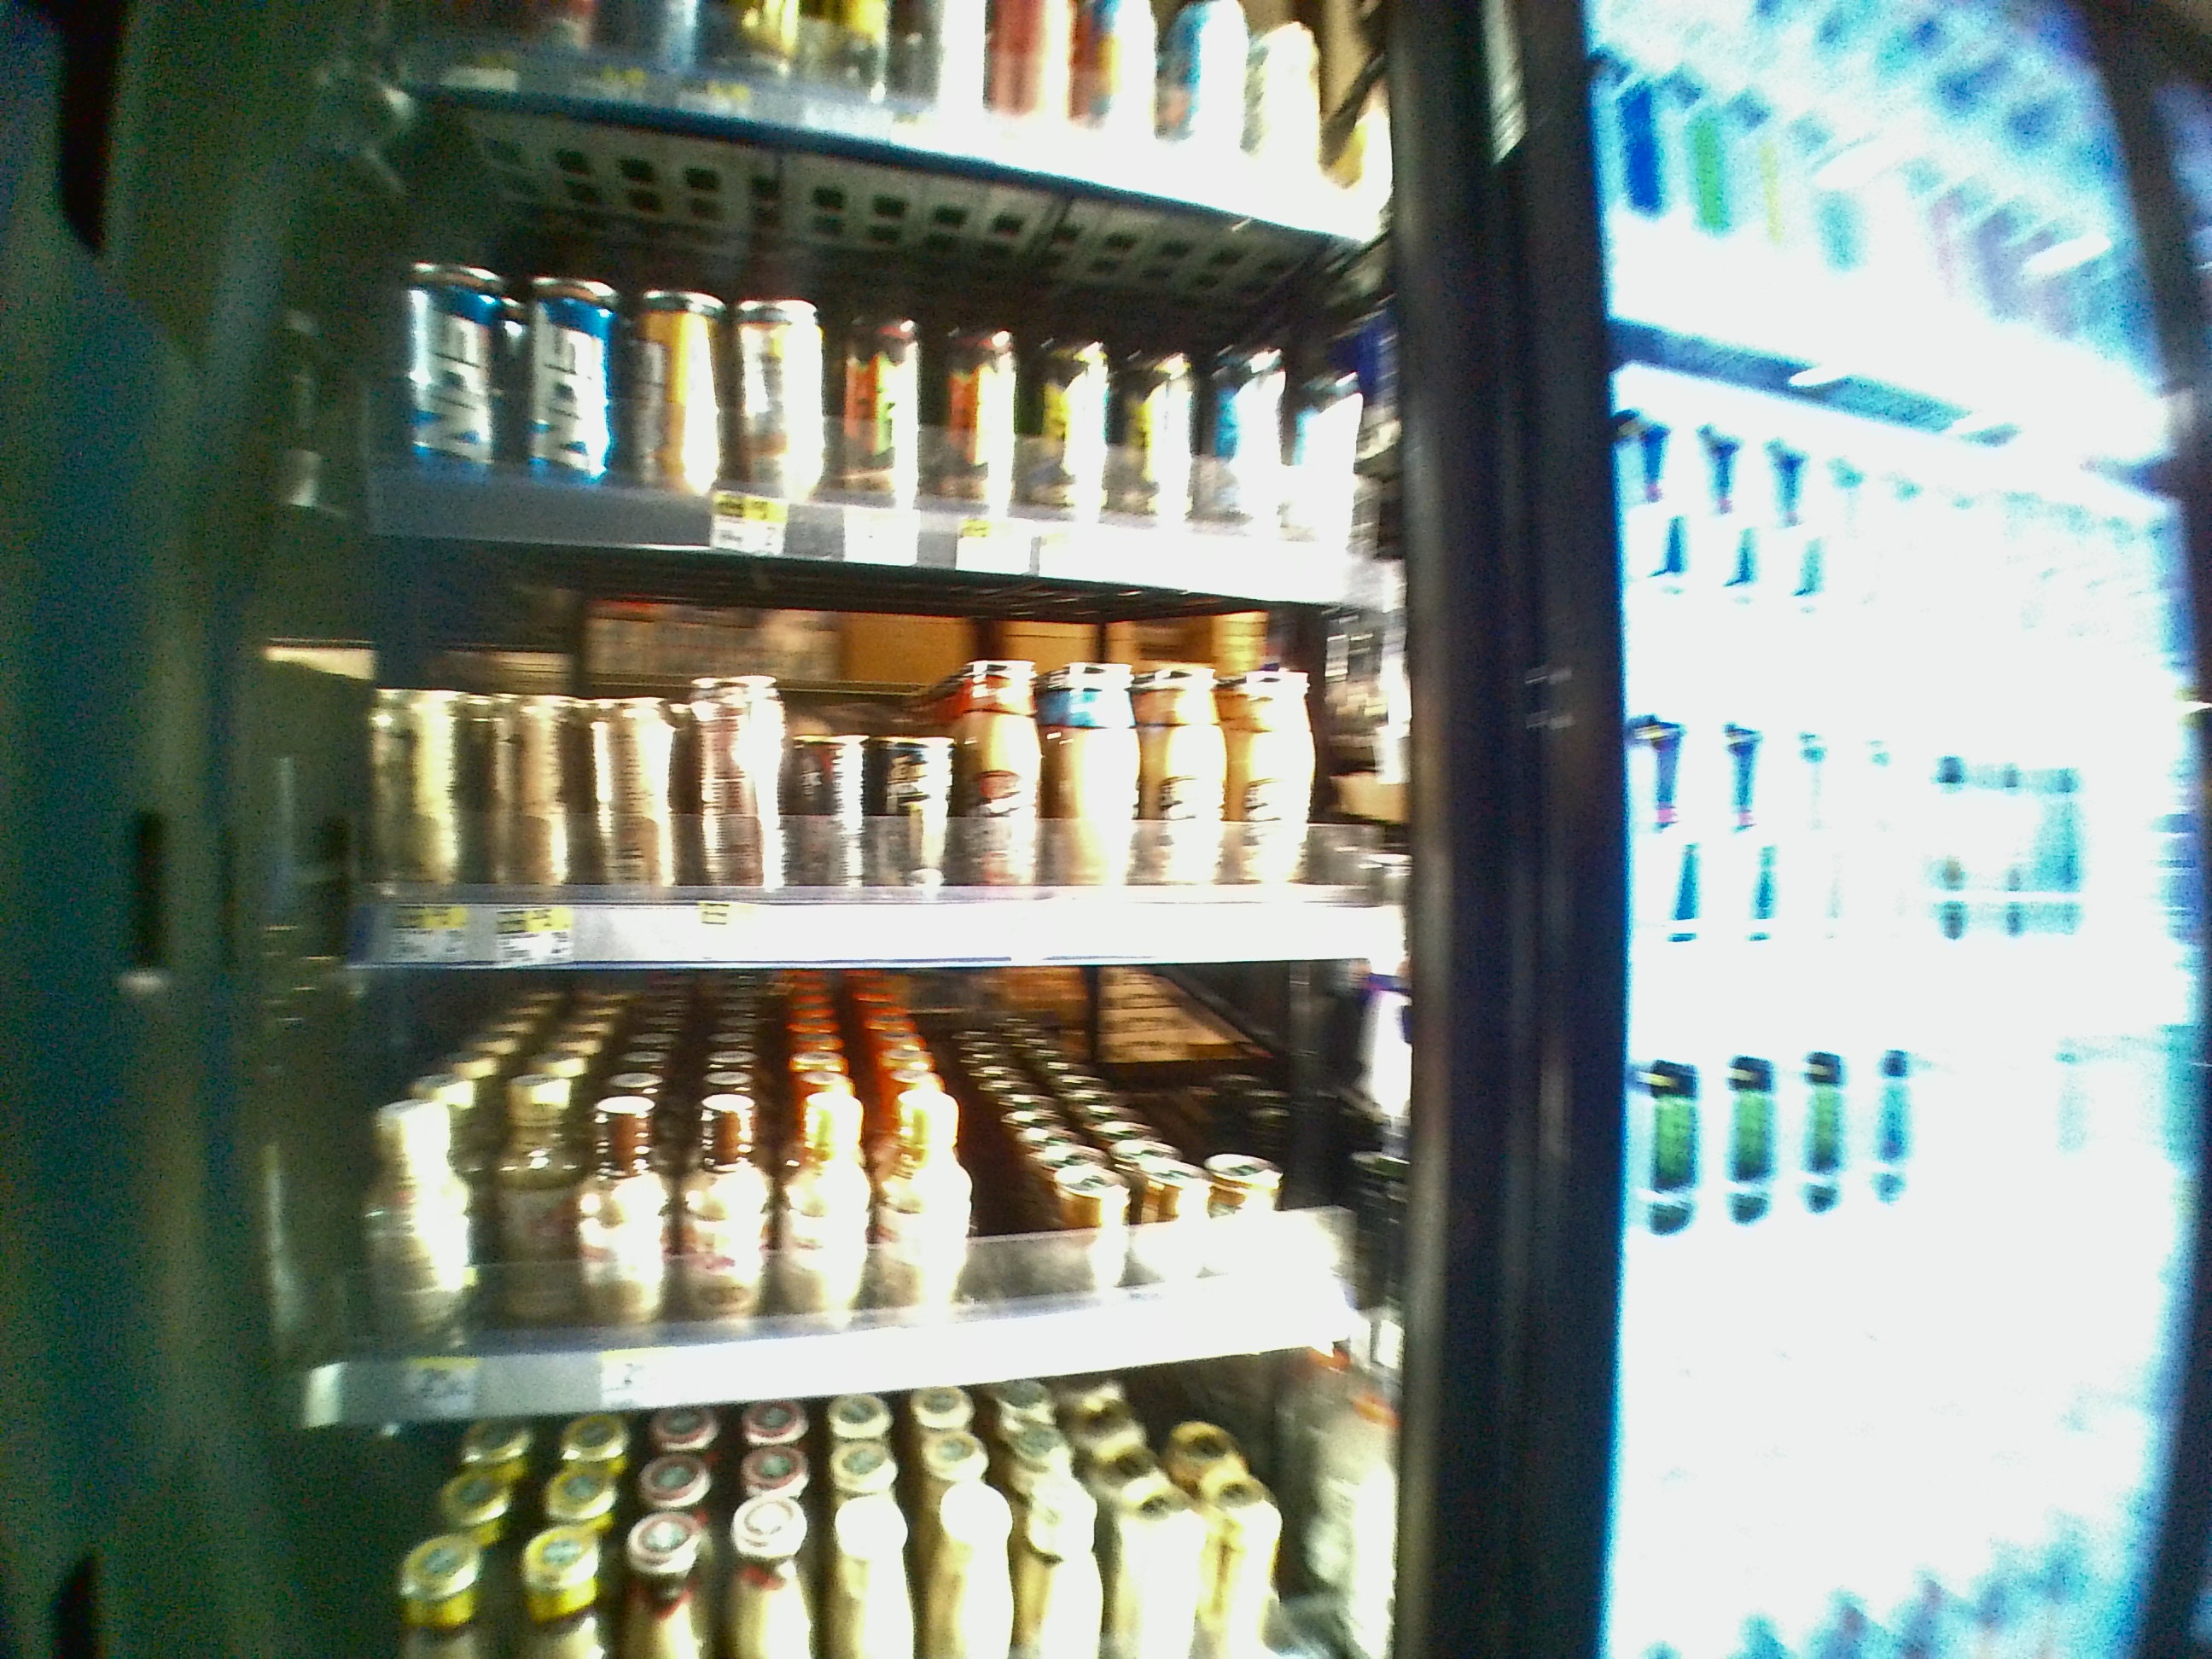shelf: (293, 540, 1411, 953)
